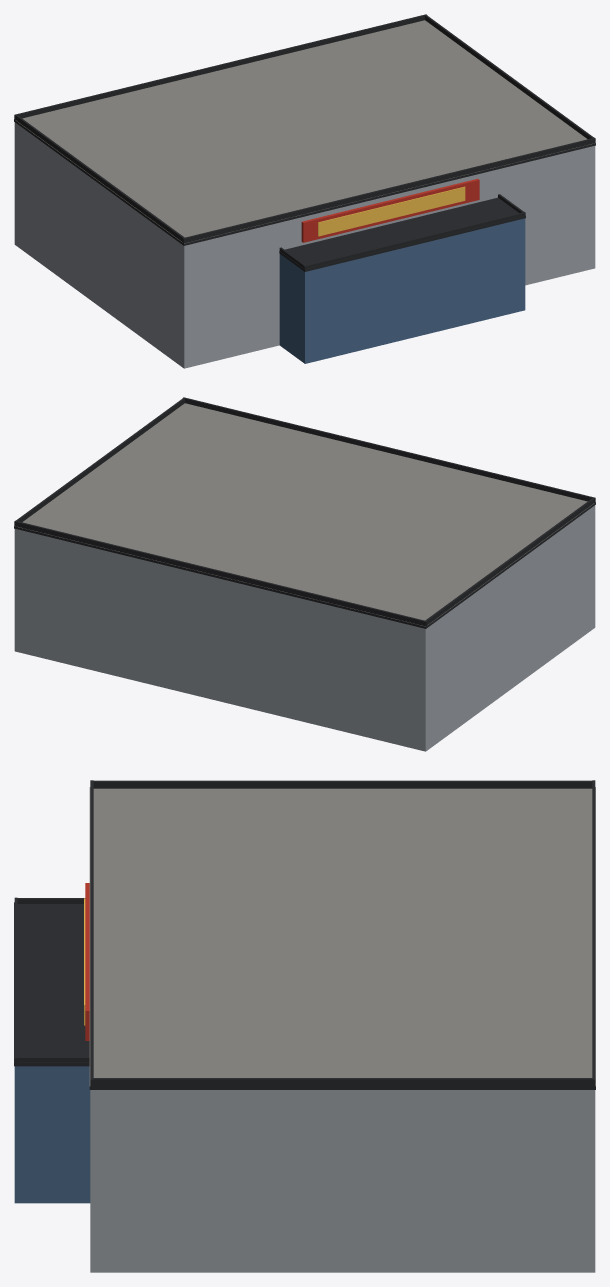
Rendered from cinema_multiplexe.glb.
3 views of the same model, one above another, from view 1: azimuth 30°, elevation 25°; view 2: azimuth 150°, elevation 25°; view 3: azimuth 270°, elevation 25° (orthographic). The views are drawn at different scales.
Visible parts, largest first — view 1: cinema_multiplexe; view 2: cinema_multiplexe; view 3: cinema_multiplexe.
Boxes of the visible parts, bbox=[...] form: cinema_multiplexe: bbox=[14, 14, 595, 368]; cinema_multiplexe: bbox=[14, 397, 595, 751]; cinema_multiplexe: bbox=[14, 780, 595, 1272].
Bounding box in the file's own units: 56.1 × 16.9 × 46.1.
Materials: 1 (1 with a texture image).
